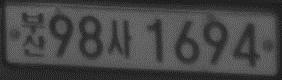1: (144, 18, 170, 63)
4: (232, 22, 260, 66)
6: (173, 20, 201, 64)
8: (77, 13, 104, 60)
9: (202, 20, 229, 65), (48, 13, 74, 57)
부산_V: (20, 11, 47, 58)
사: (106, 18, 134, 58)
